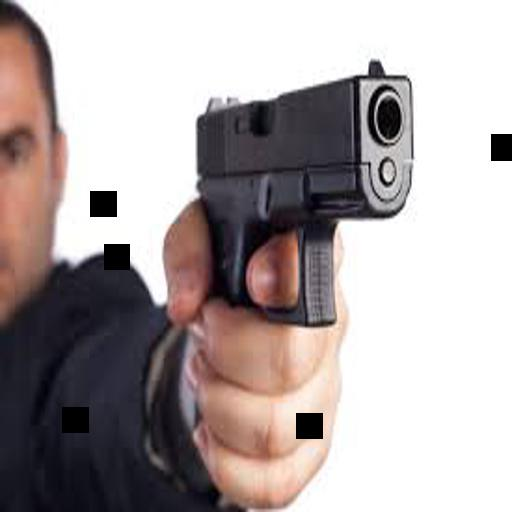Handgun: (157, 49, 417, 466)
